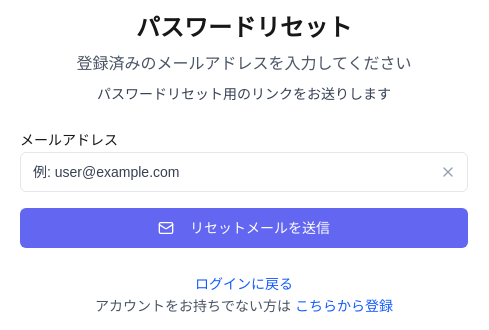
Test: PasswordResetForm › Form Input Handling › should clear input when clear button is clicked
Type "test@example.com" into the field labelled "メールアドレス" at [244, 172], box 20,152 -> 468,192
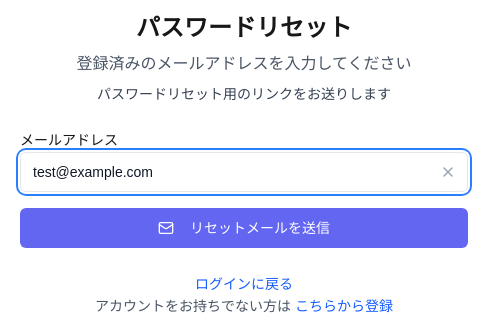
Click the button named "クリア" at [448, 172], box 428,152 -> 468,192
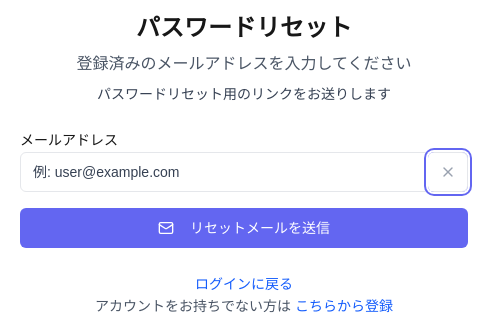
Check: the field labelled "メールアドレス" is empty, box 20,152 -> 468,192
